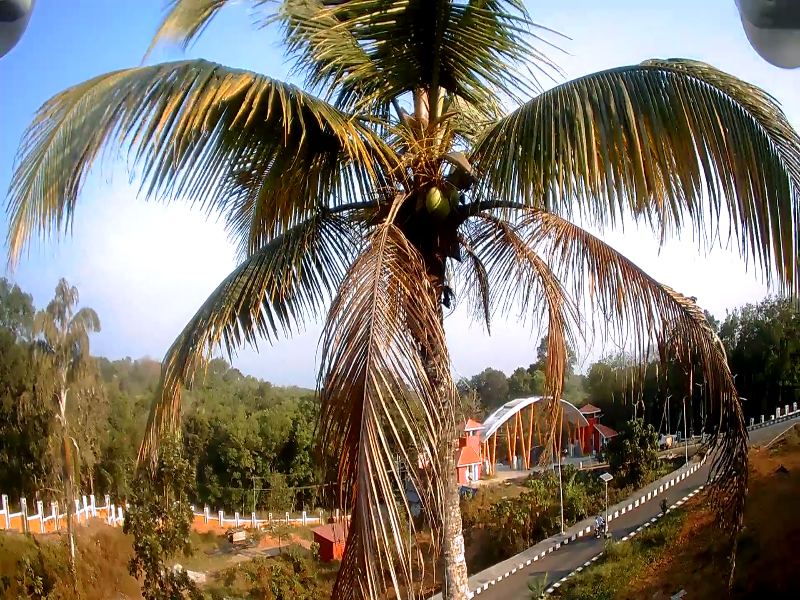coconut: (424, 183, 448, 224)
